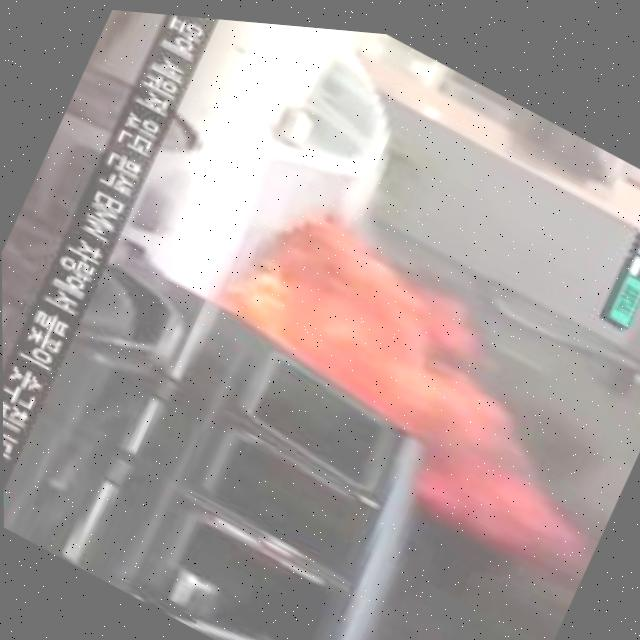Fire: (177, 158, 640, 585)
